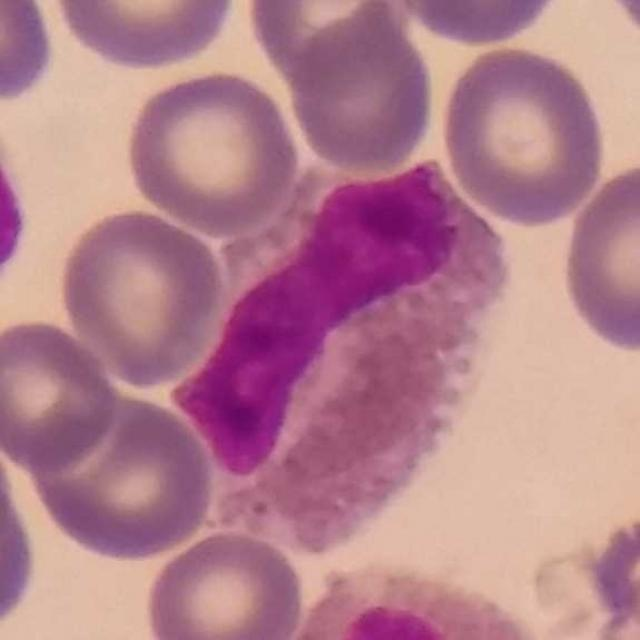eosino: (168, 151, 513, 557)
